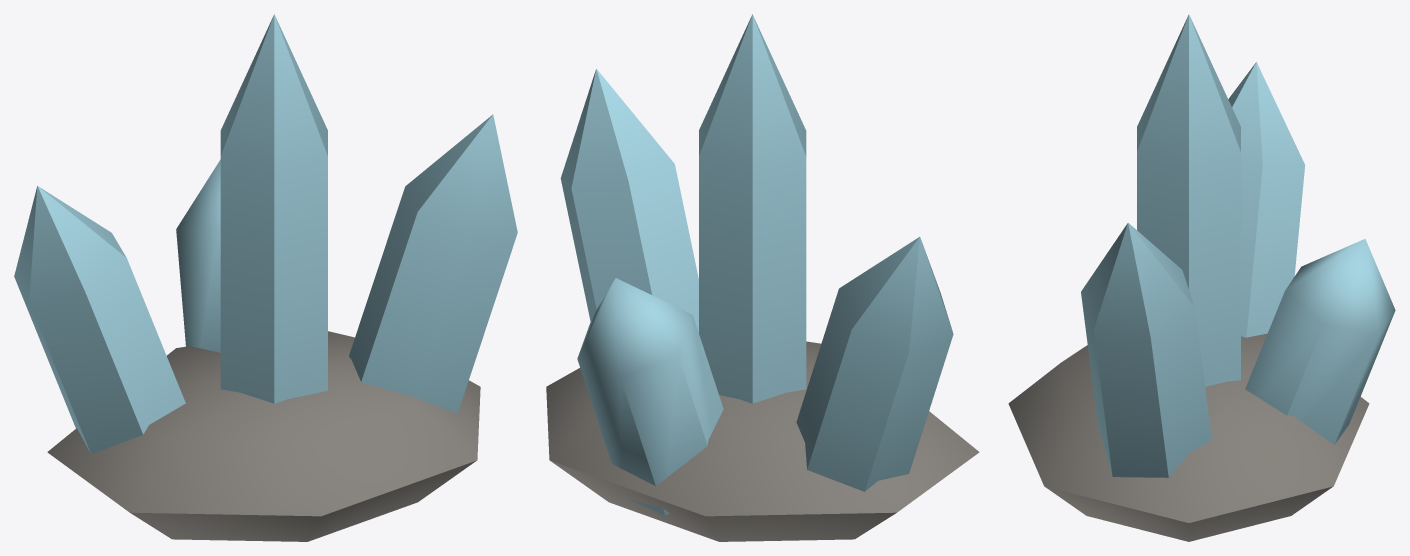
Rendered from rock_crystal.glb.
3 views of the same model, side by side, from view 1: azimuth 30°, elevation 25°; view 2: azimuth 150°, elevation 25°; view 3: azimuth 270°, elevation 25° (orthographic). The views are drawn at different scales.
Visible parts, largest first — view 1: rock_crystal; view 2: rock_crystal; view 3: rock_crystal.
Boxes of the visible parts, box(x1,y1,x2,y2) form: rock_crystal: box(14, 14, 517, 541); rock_crystal: box(546, 14, 979, 541); rock_crystal: box(1008, 14, 1395, 541).
Bounding box in the file's own units: 0.1053 × 0.114 × 0.0836.
